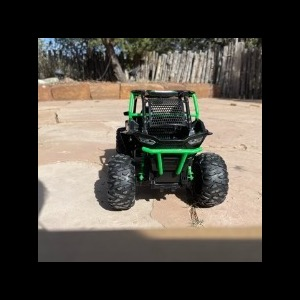polaris: (106, 88, 231, 210)
